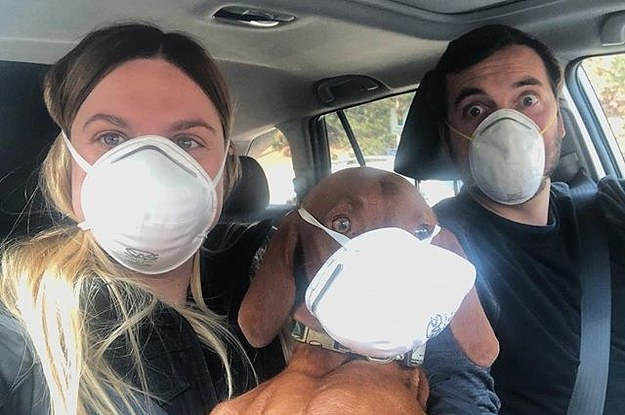n95: (303, 226, 487, 363), (78, 134, 223, 277), (456, 107, 559, 206)
